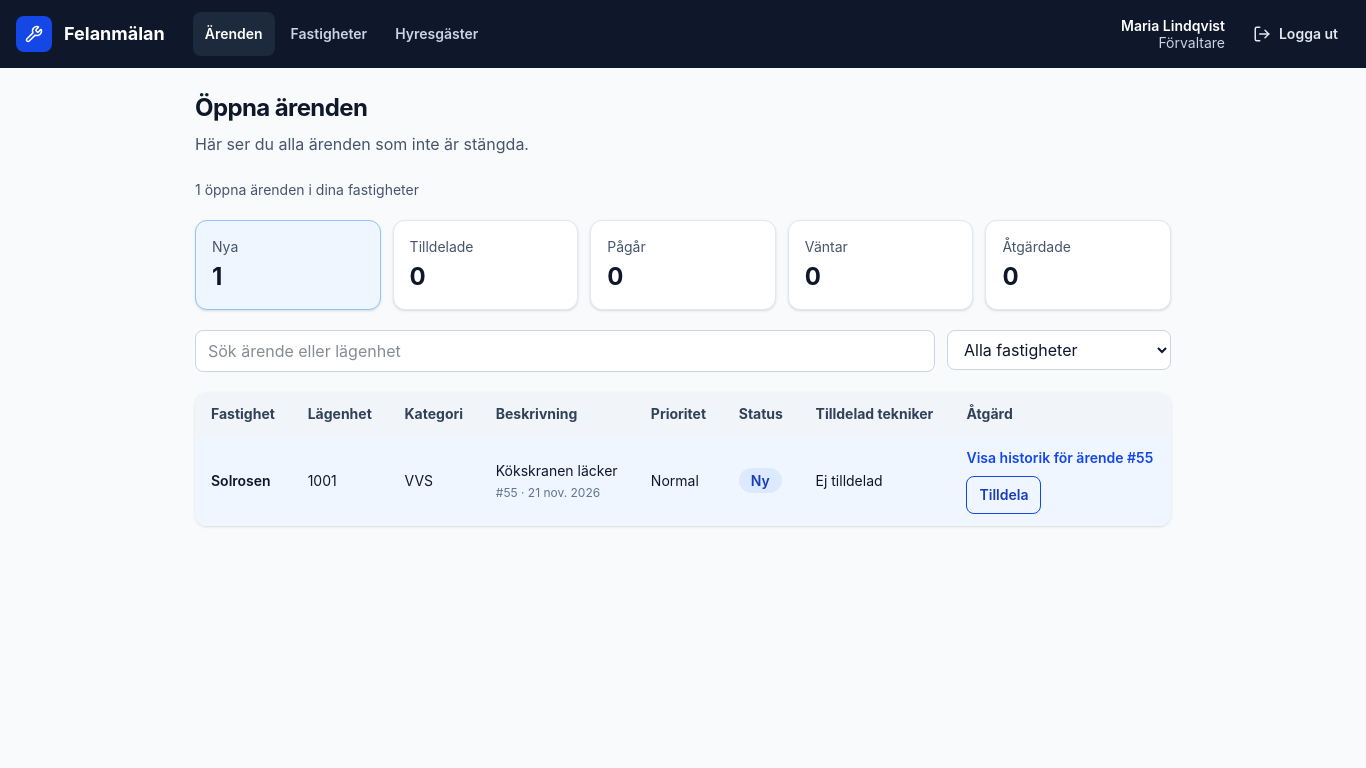
Tilldela tekniker (#18) › visar bara tekniker i rullistan och kräver ett val
Step 1. Click the button "Tilldela" → (1004, 495), box [966,476,1042,514]
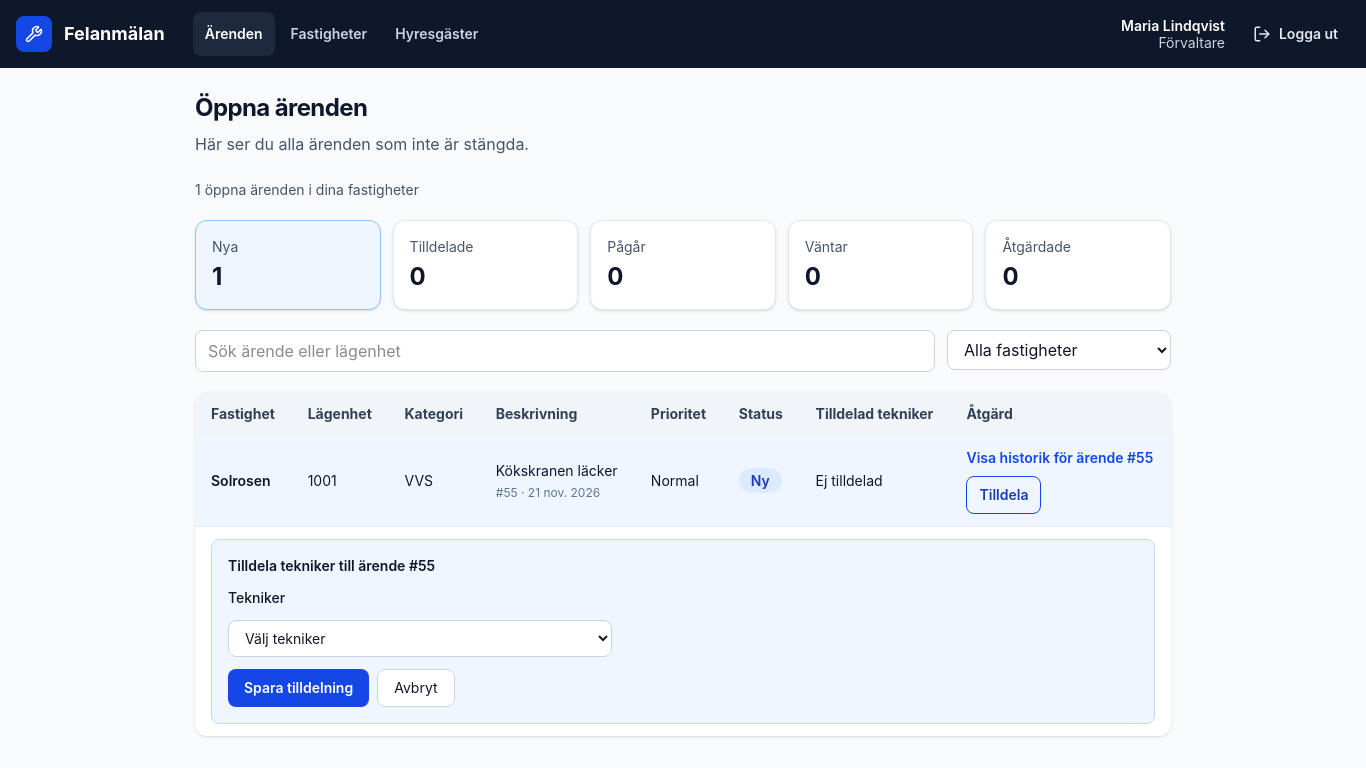
Step 2. Click the button "Spara tilldelning" → (299, 688), box [228,669,369,707]
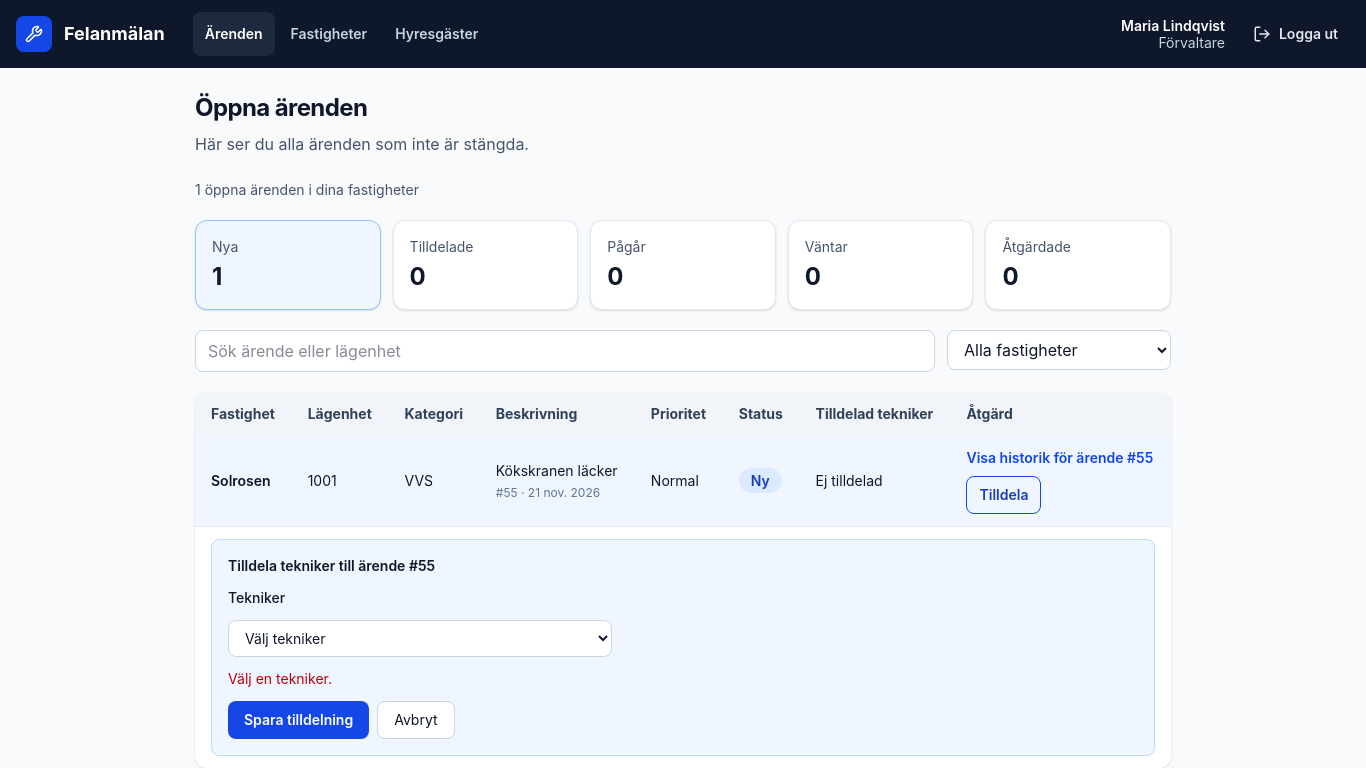
Check: the message reads "Välj en tekniker.", box [228,670,332,687]
